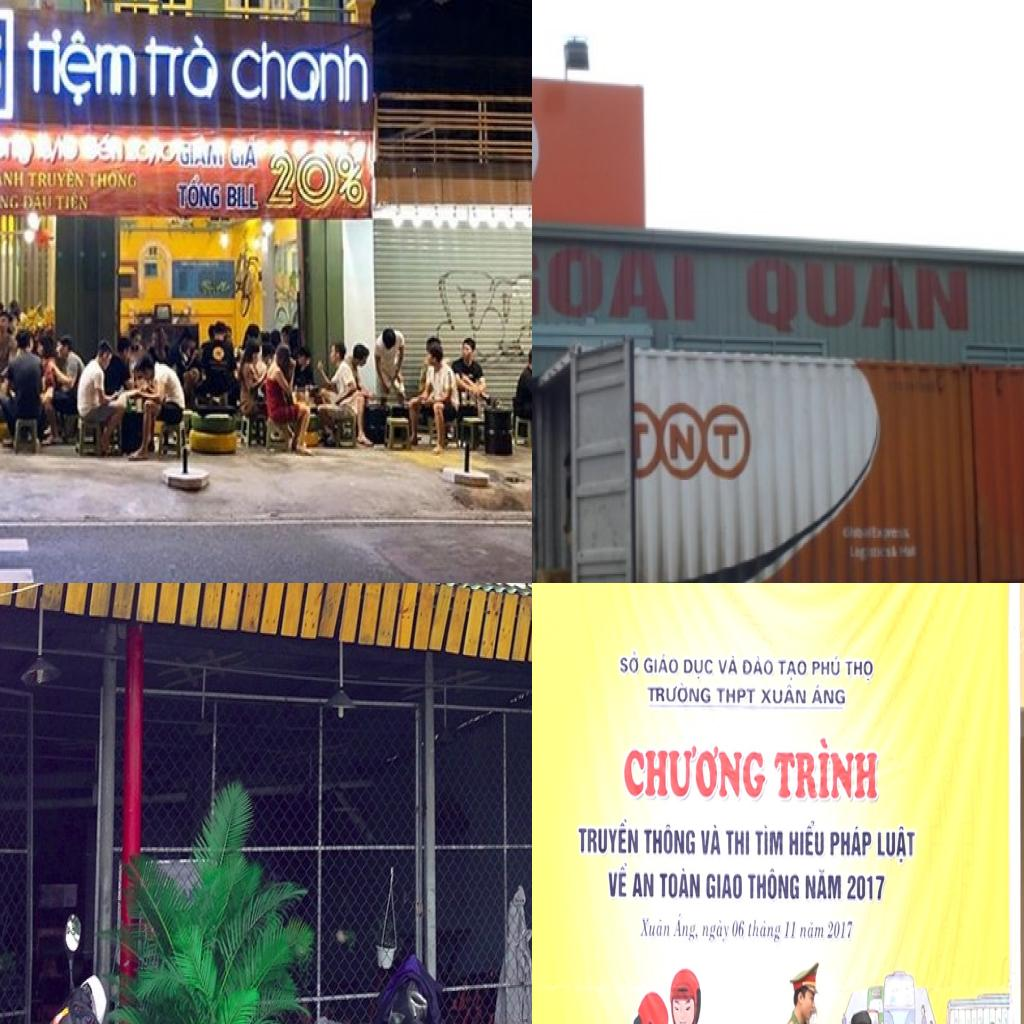text: (744, 255, 971, 342), (532, 236, 698, 324), (230, 36, 372, 107), (26, 26, 140, 109), (622, 743, 770, 806), (772, 734, 883, 809), (264, 149, 368, 208), (144, 31, 222, 105), (575, 818, 640, 858), (642, 820, 697, 858), (746, 865, 801, 903), (876, 823, 917, 868), (828, 823, 874, 863), (657, 864, 702, 902), (176, 175, 223, 211), (646, 682, 712, 707), (788, 820, 826, 860), (26, 166, 86, 191), (846, 870, 887, 906), (804, 868, 844, 904), (704, 868, 744, 903), (747, 914, 783, 948), (668, 420, 696, 463), (86, 168, 140, 190), (753, 822, 785, 859), (643, 649, 681, 679), (672, 910, 702, 946), (759, 684, 807, 706), (722, 824, 752, 858), (714, 424, 740, 463), (606, 859, 630, 901), (739, 653, 776, 680), (638, 913, 672, 942), (702, 916, 732, 948), (843, 656, 876, 685), (825, 915, 857, 944), (810, 682, 847, 707), (714, 684, 756, 706), (810, 653, 842, 681), (699, 822, 723, 858), (682, 654, 715, 680), (227, 184, 259, 210), (776, 656, 809, 681), (55, 191, 91, 213), (631, 870, 655, 900), (798, 918, 826, 943), (22, 192, 54, 213), (618, 650, 641, 678), (0, 167, 26, 190), (717, 653, 740, 678), (0, 190, 21, 213), (783, 915, 799, 942), (732, 916, 747, 942)
